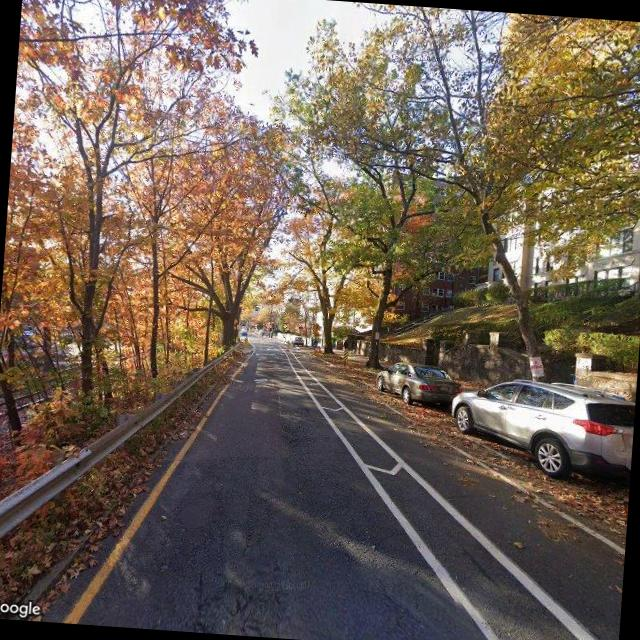crack: (178, 437, 453, 640)
